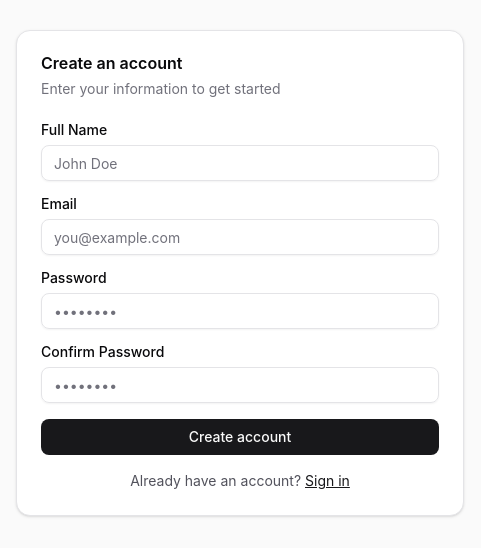
Test: Authentication Flow › should show error for password mismatch
The image size is (481, 548).
In the field with id "fullName": (240, 163) x1=41 y1=145 x2=439 y2=181, type "Test User"
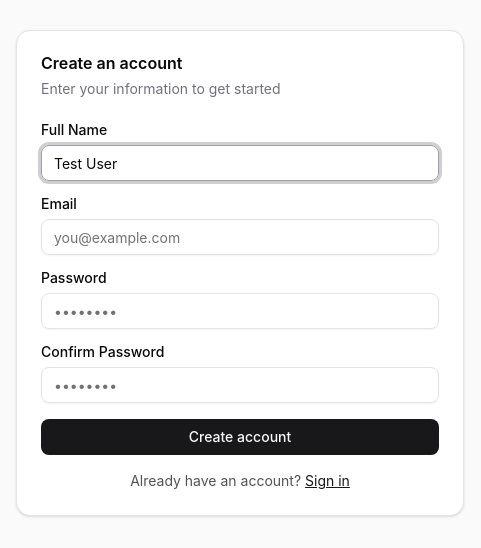
In the field with id "email": (240, 237) x1=41 y1=219 x2=439 y2=255, type "test@example.com"
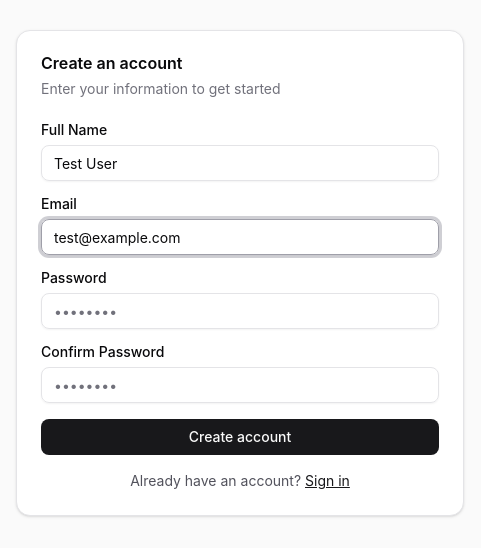
In the password field labelled "Password": (240, 311) x1=41 y1=293 x2=439 y2=329, type "Password123!"
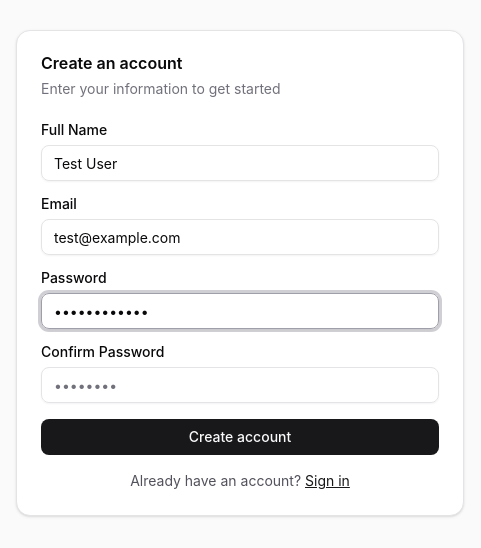
In the password field with id "confirmPassword": (240, 385) x1=41 y1=367 x2=439 y2=403, type "DifferentPassword!"
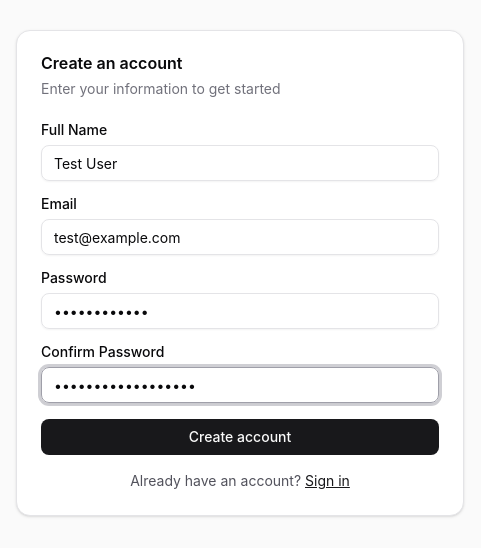
Click the submit button: (240, 437) x1=41 y1=419 x2=439 y2=455
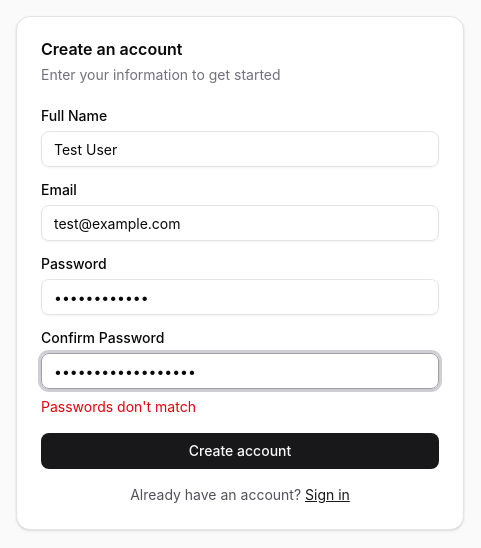
Result: the text "Passwords don't match" is shown at x1=41 y1=398 x2=196 y2=415
